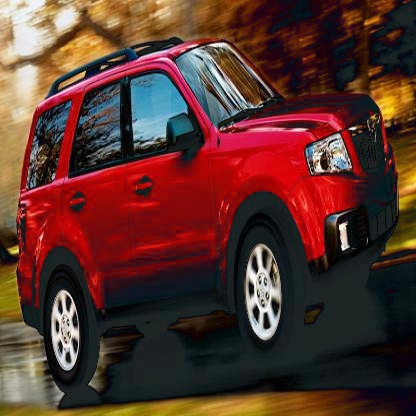Vehicle: (17, 34, 403, 393)
